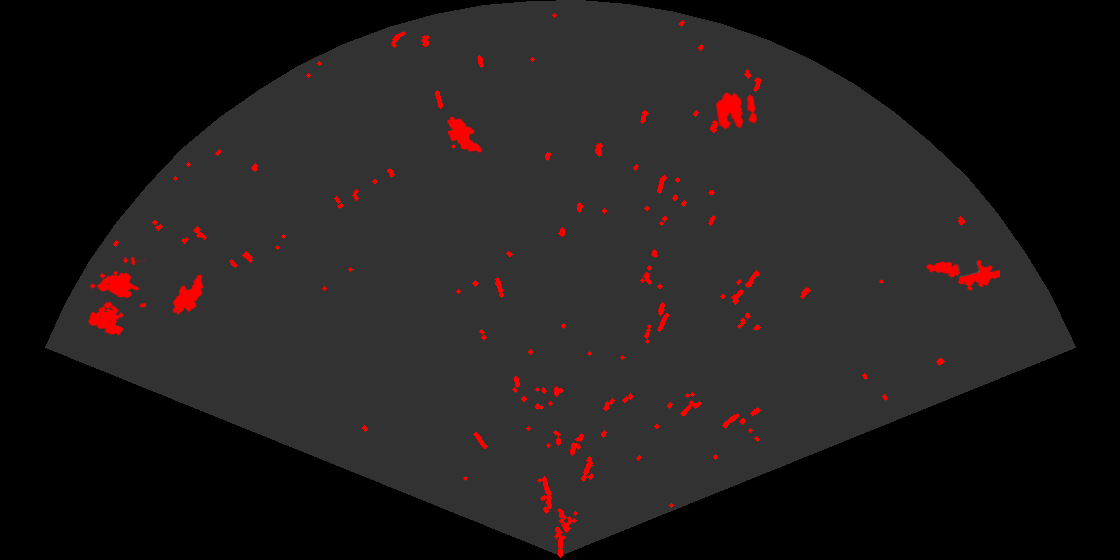AUV: (446, 115, 484, 154), (171, 273, 205, 316)
ball: (714, 91, 759, 131)
cage: (87, 257, 146, 337)
frogman: (925, 258, 1000, 293)
